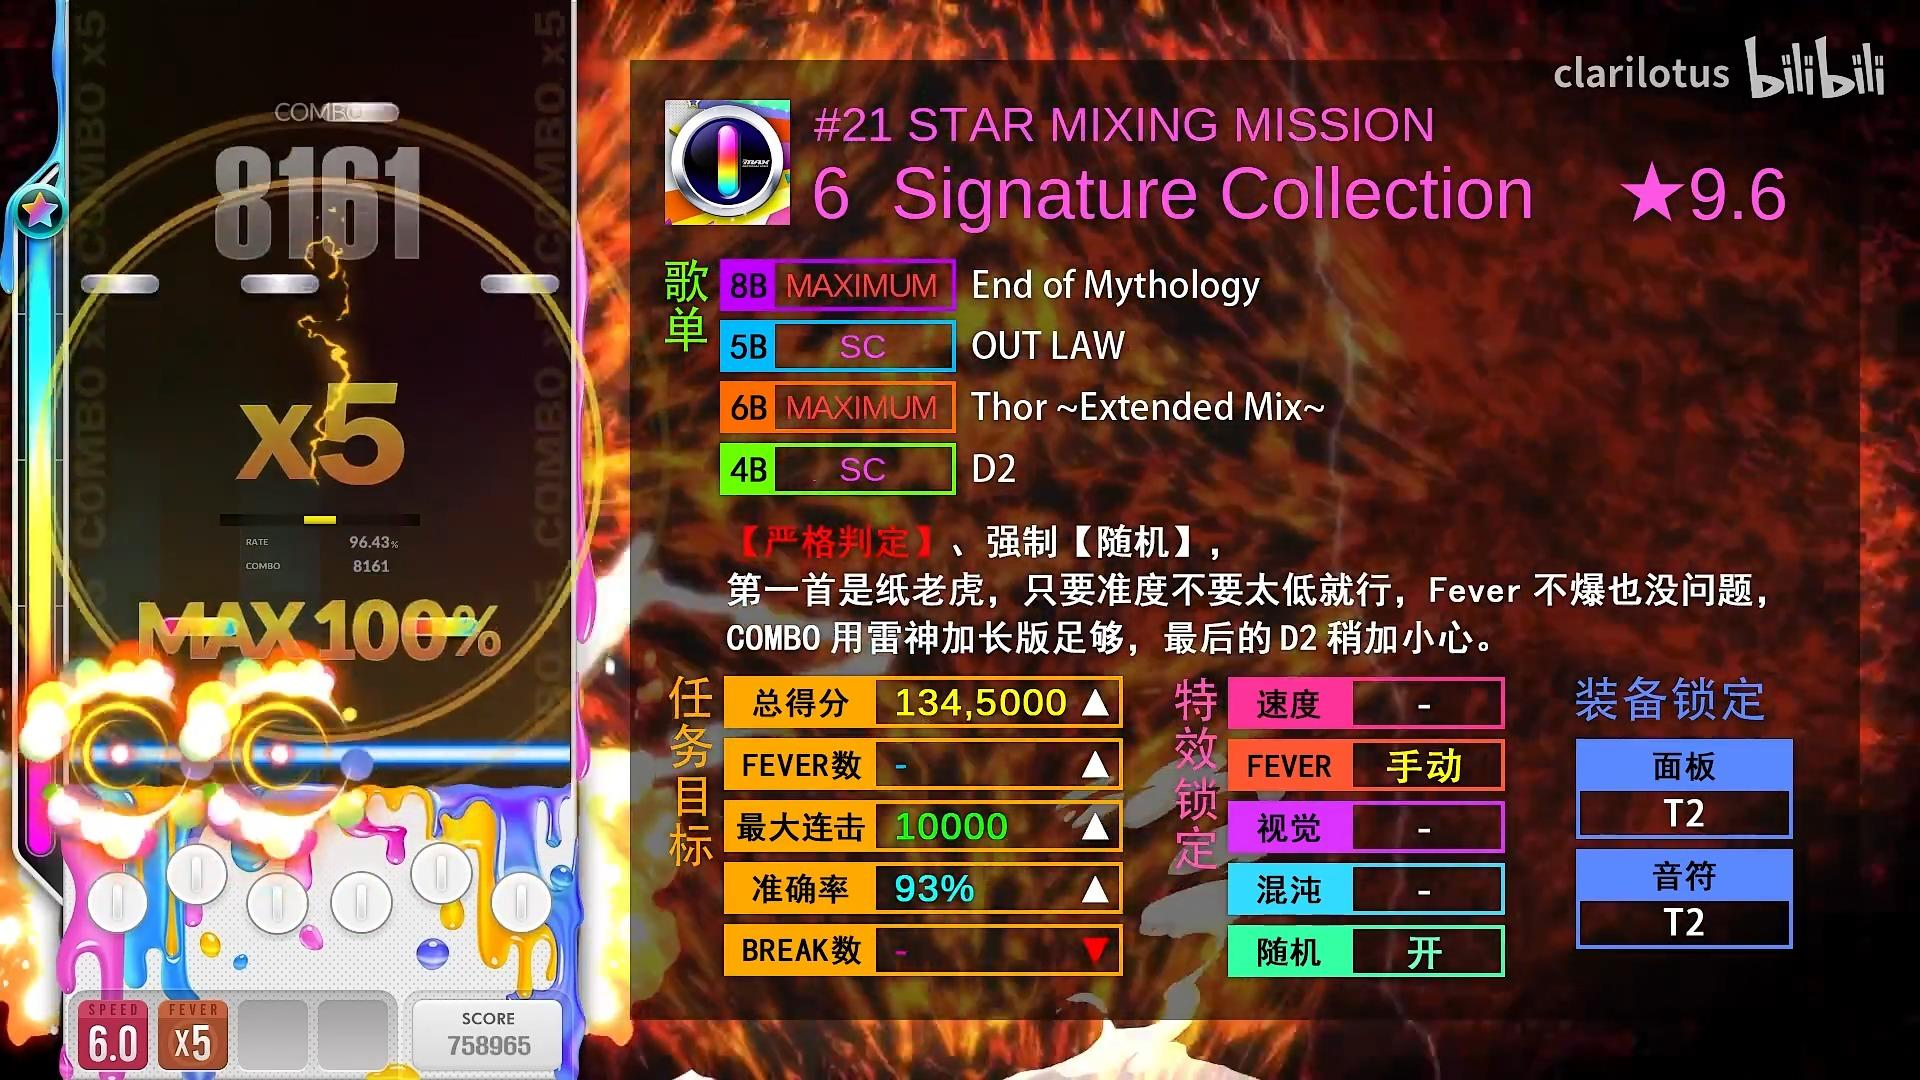note: (319, 102, 400, 123), (240, 273, 319, 294), (481, 274, 559, 294), (80, 274, 158, 294), (160, 618, 239, 637), (400, 617, 477, 636)
